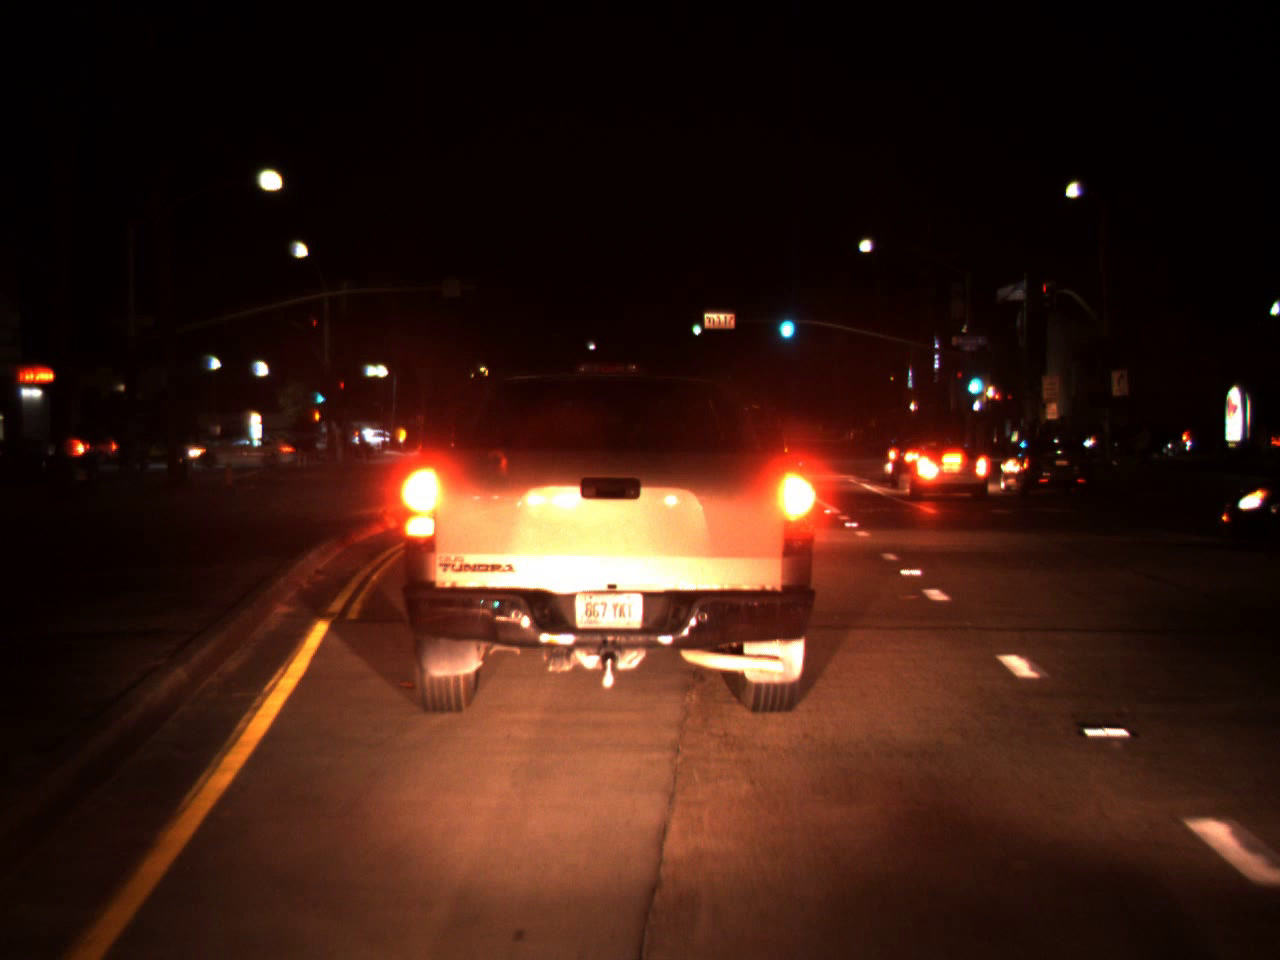go: (773, 303, 798, 339), (964, 358, 985, 400), (689, 314, 701, 335), (315, 387, 324, 405)
